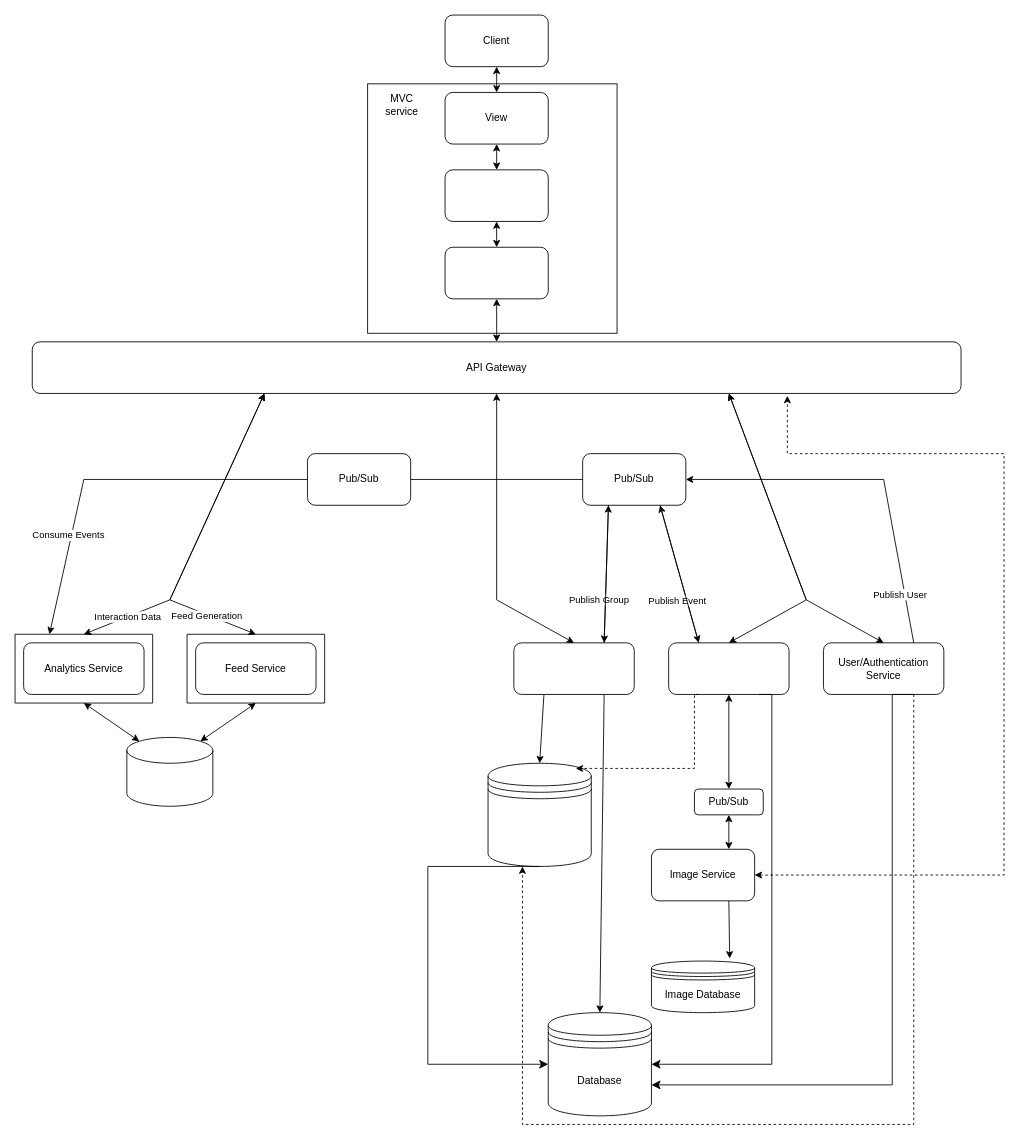
Some shapes in this 1027 by 1146 pixel diagram are drawn without their labels. The centre of each missing label's shape, as x and y in pixels:
"Controller" belongs at point (496, 195).
"Event Service" belongs at point (728, 668).
"Event Store" belongs at point (539, 814).
"Group Service" belongs at point (573, 668).
"Model" belongs at point (496, 272).
"Recombee API" belongs at point (169, 771).
